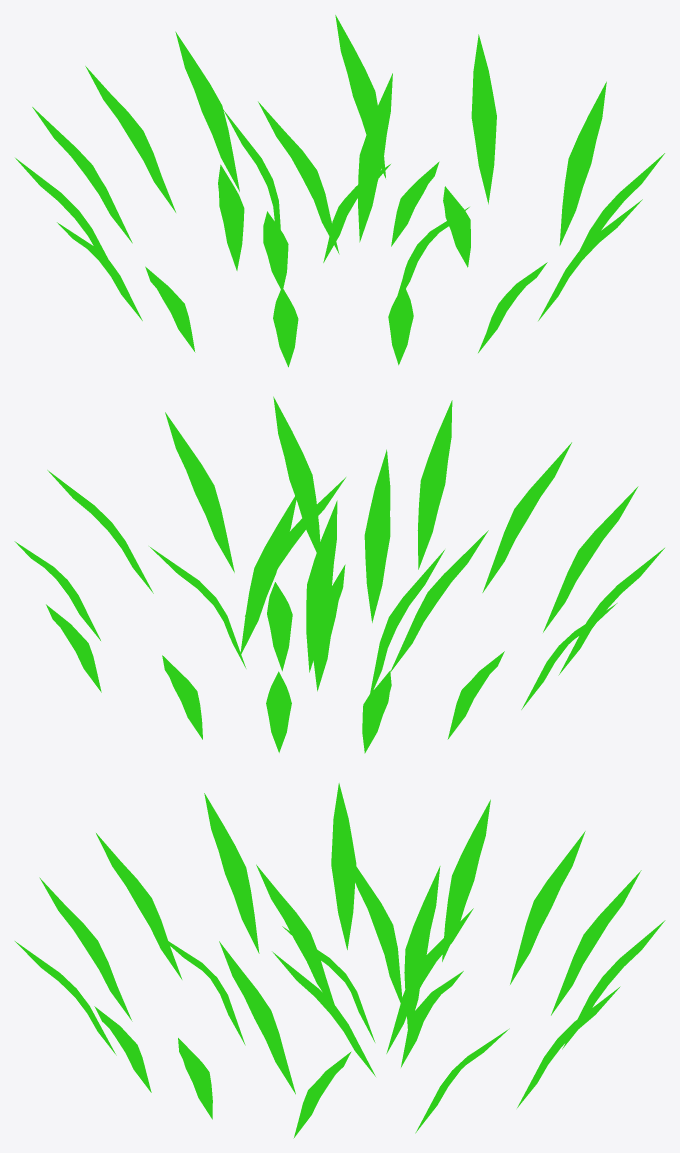
The model's file is Grass.fbx.
3 views of the same model, one above another, from view 1: azimuth 30°, elevation 25°; view 2: azimuth 150°, elevation 25°; view 3: azimuth 270°, elevation 25° (orthographic). The views are drawn at different scales.
Parts seen in each view (by area): view 1: Grass; view 2: Grass; view 3: Grass.
Boxes of the visible parts, x1,y1,x2,y2 form: Grass: (15,15,664,367); Grass: (14,396,664,753); Grass: (15,783,665,1138).
Size of the model in its own units: 3.56 by 0.9075 by 3.64.
